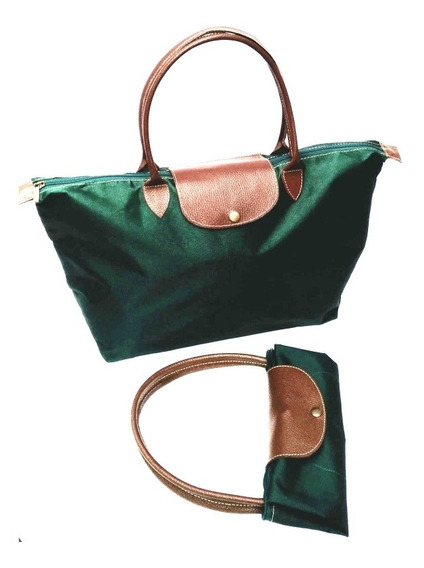cartera: (26, 24, 404, 363), (129, 342, 353, 539)
